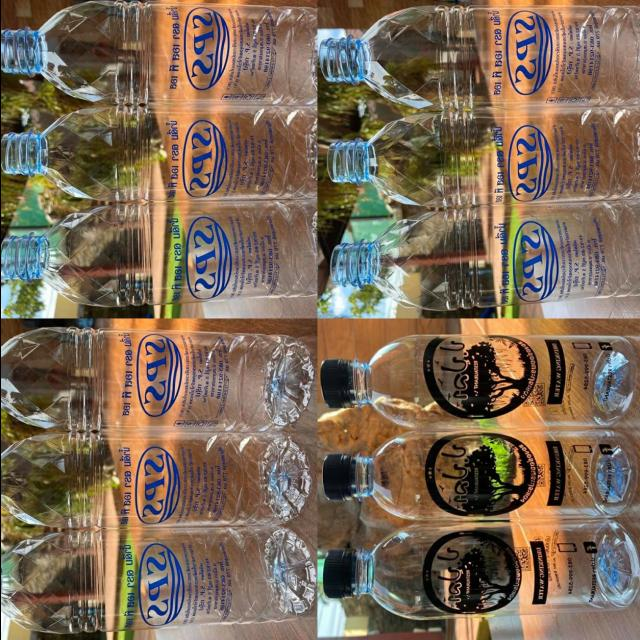plastik: (0, 526, 315, 634), (329, 202, 640, 311), (0, 201, 316, 307), (0, 1, 316, 105), (0, 327, 313, 431), (319, 7, 640, 108), (322, 520, 639, 620), (327, 107, 640, 206), (0, 105, 315, 201), (0, 433, 310, 528), (319, 335, 635, 428), (322, 429, 636, 520)
